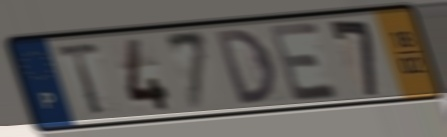4: (124, 36, 172, 114)
7: (326, 18, 380, 99), (163, 27, 211, 114)
D: (211, 26, 280, 108)
E: (264, 19, 344, 105)
T: (53, 40, 107, 119)
